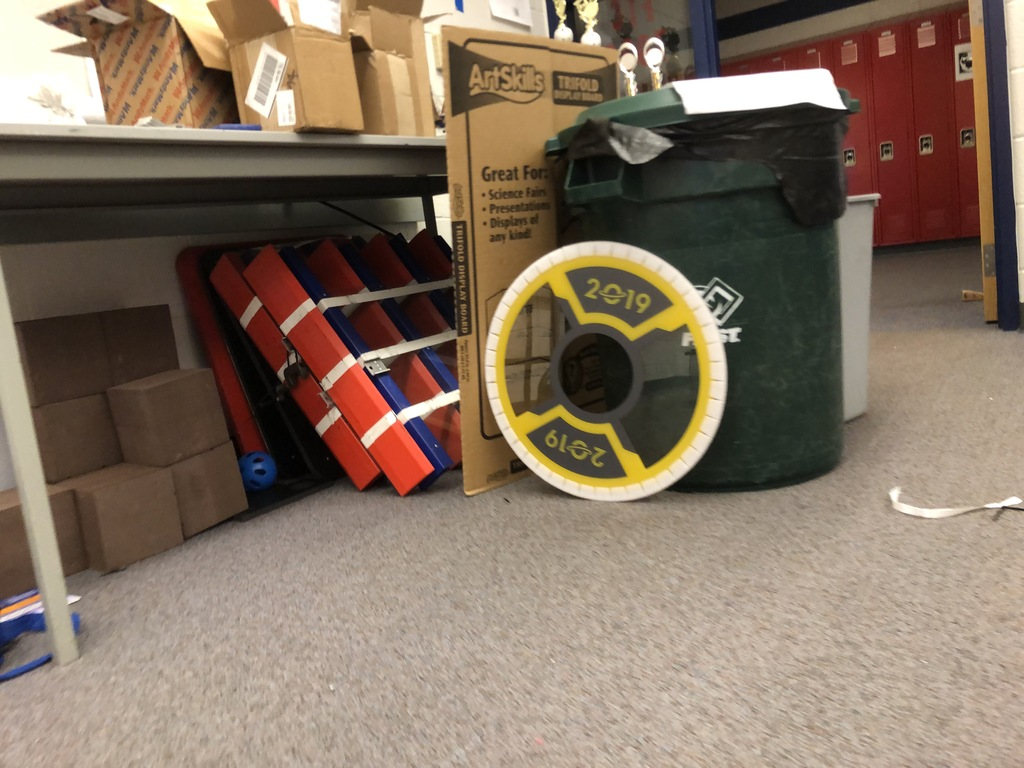hatch_panel: (475, 228, 746, 509)
